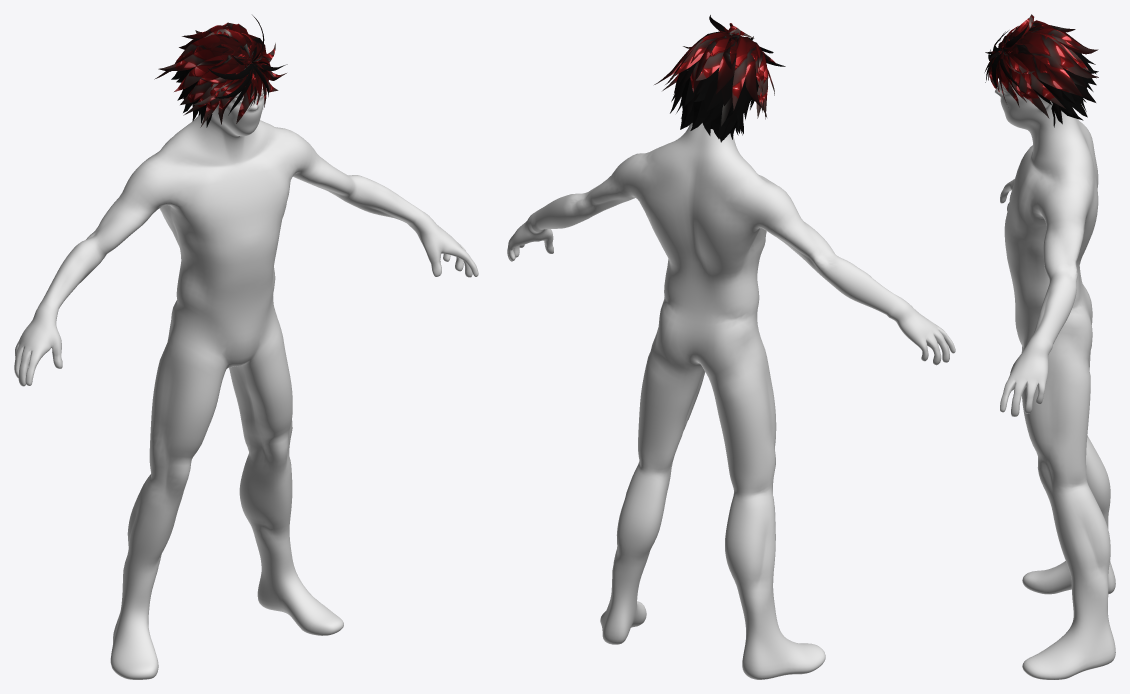
Rendered from Lancers Home Dress.fbx.
The picture shows the model from 3 angles, left to right: view 1: azimuth 30°, elevation 25°; view 2: azimuth 150°, elevation 25°; view 3: azimuth 270°, elevation 25°; orthographic projection. The views are drawn at different scales.
Visible parts, largest first — view 1: lowman_shoes, Doppo Hair; view 2: lowman_shoes, Doppo Hair; view 3: lowman_shoes, Doppo Hair.
Boxes of the visible parts, x1,y1,x2,y2 form: lowman_shoes: (14, 84, 478, 679); Doppo Hair: (154, 15, 287, 127); lowman_shoes: (507, 70, 955, 679); Doppo Hair: (654, 15, 785, 142); lowman_shoes: (995, 81, 1115, 679); Doppo Hair: (984, 14, 1098, 127).
Bounding box in the file's own units: 462 × 626 × 122.
